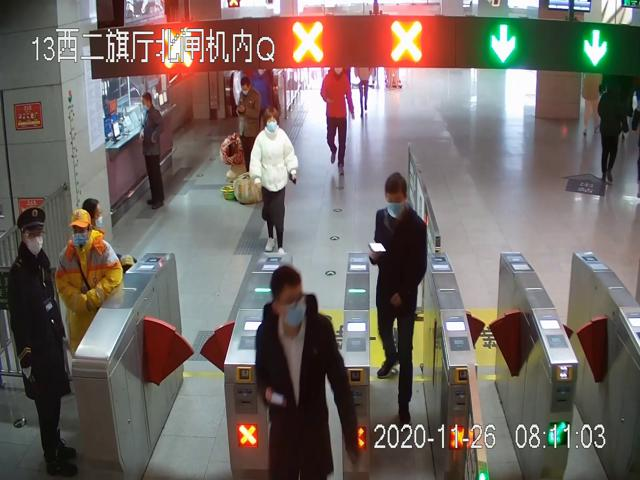person: (256, 267, 360, 480), (6, 208, 78, 477), (371, 172, 429, 427), (58, 209, 121, 353), (250, 106, 298, 254), (138, 91, 164, 211), (236, 77, 262, 173)
